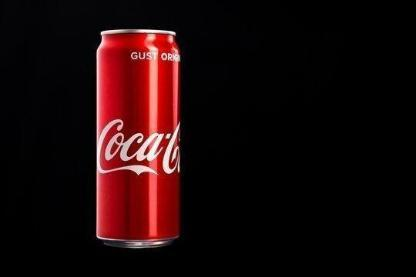Can: (94, 28, 182, 250)
